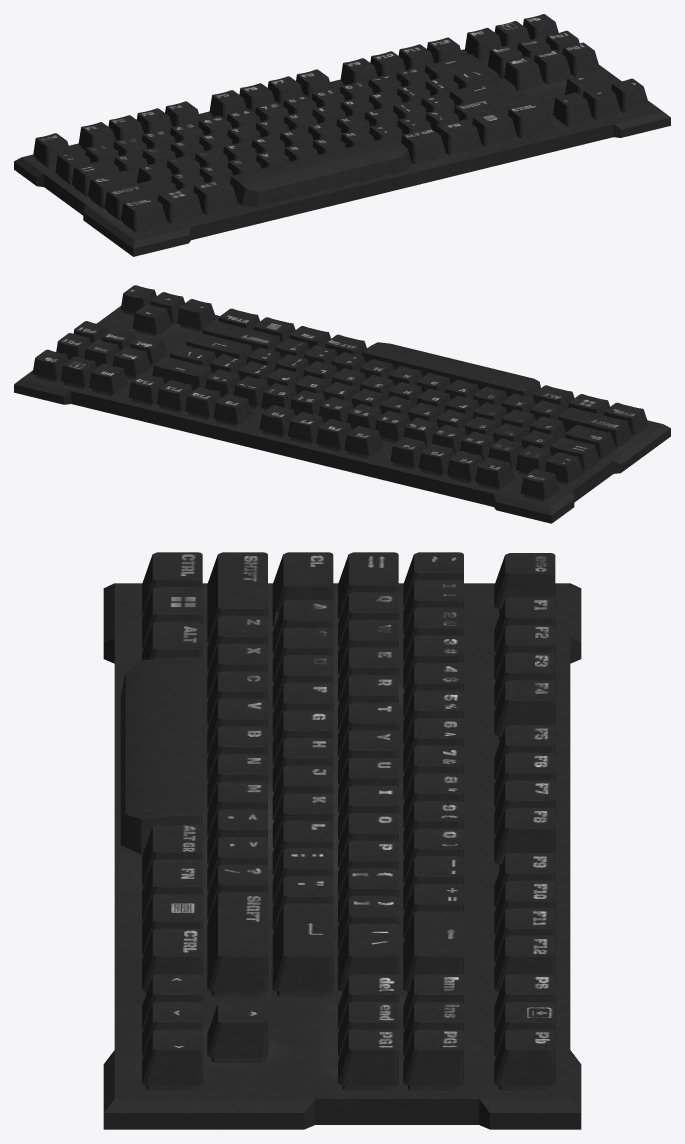
File: keyboa43rd.fbx
3 renders of one model, top to bottom at view 1: azimuth 30°, elevation 25°; view 2: azimuth 150°, elevation 25°; view 3: azimuth 270°, elevation 25°, orthographic. The views are drawn at different scales.
Visible parts, largest first — view 1: Куб.023, Куб.001; view 2: Куб.023, Куб.001; view 3: Куб.023, Куб.001.
Part boxes in pixels (x1,y1,x2,y2): Куб.023: [33, 14, 648, 232]; Куб.001: [14, 49, 670, 256]; Куб.023: [32, 285, 648, 501]; Куб.001: [14, 306, 670, 523]; Куб.023: [120, 552, 555, 1090]; Куб.001: [103, 583, 581, 1129].
Bounding box in the file's own units: 817 × 48.75 × 314.
